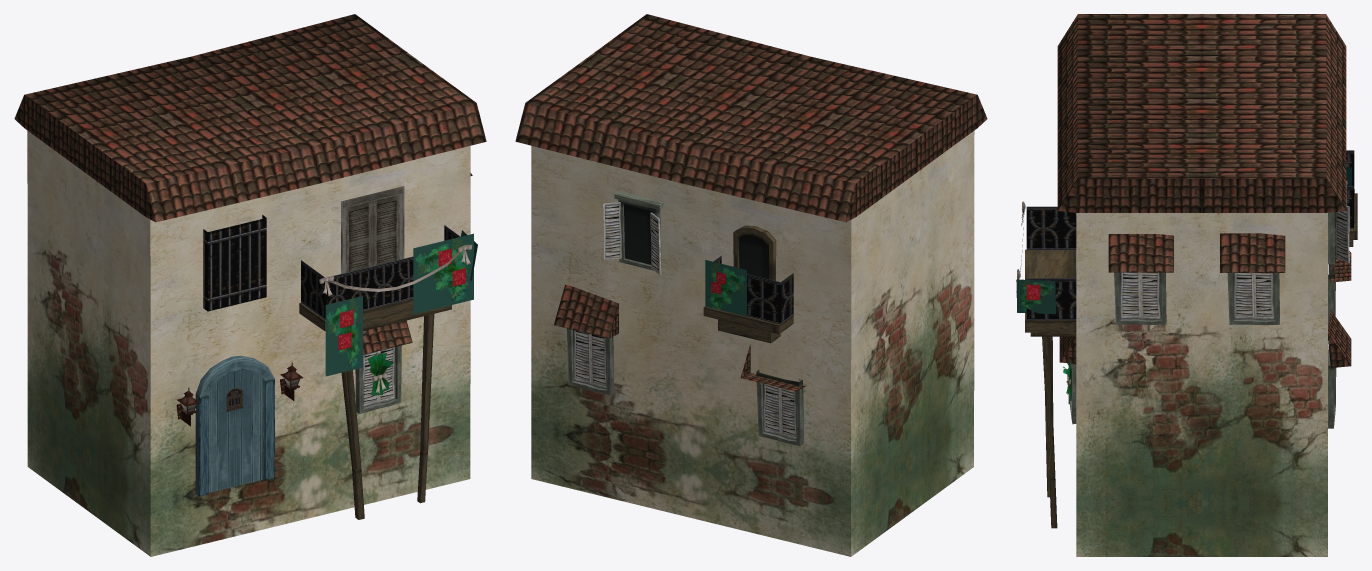
Rendered from spanish_npc_house_o_exterior.fbx.
3 views of the same model, side by side, from view 1: azimuth 30°, elevation 25°; view 2: azimuth 150°, elevation 25°; view 3: azimuth 270°, elevation 25° (orthographic). The views are drawn at different scales.
Parts seen in each view (by area): view 1: polySurface334, roof, door_right, pPlane30, door2, balcony_railing1, door_frame, polySurface266, polySurface338, win_rect_closed_012, Column6, Column5 (+4 smaller); view 2: polySurface334, roof, win_rect_closed_022, win_rect_closed_021, windows_roof3, polySurface342, Window2, polySurface335, windowframe15, windowframe16, shutter_a6, balcony_upper1 (+3 smaller); view 3: polySurface334, roof, balcony_railing1, win_rect_closed_019, win_rect_closed_020, windows_roof1, windows_roof, balcony_upper2, Column6, polySurface267, windows_roof3, shutter_a6 (+4 smaller).
Part boxes in pixels (<box>): polySurface334: <box>27,130,470,556</box>; roof: <box>14,14,486,222</box>; door_right: <box>208,369,263,492</box>; pPlane30: <box>203,215,266,311</box>; door2: <box>341,186,404,273</box>; balcony_railing1: <box>301,225,460,319</box>; door_frame: <box>195,355,274,496</box>; polySurface266: <box>413,233,473,314</box>; polySurface338: <box>325,296,362,376</box>; win_rect_closed_012: <box>355,345,401,413</box>; Column6: <box>417,314,434,503</box>; Column5: <box>341,370,364,519</box>; polySurface334: <box>531,130,974,556</box>; roof: <box>515,14,987,222</box>; win_rect_closed_022: <box>756,369,803,446</box>; win_rect_closed_021: <box>566,328,614,394</box>; windows_roof3: <box>554,284,618,338</box>; polySurface342: <box>714,256,793,324</box>; Window2: <box>733,225,776,280</box>; polySurface335: <box>705,260,746,316</box>; windowframe15: <box>624,204,653,264</box>; windowframe16: <box>614,191,663,270</box>; shutter_a6: <box>602,202,621,259</box>; balcony_upper1: <box>703,306,793,334</box>; polySurface334: <box>1076,212,1327,556</box>; roof: <box>1057,14,1346,212</box>; balcony_railing1: <box>1026,206,1076,320</box>; win_rect_closed_019: <box>1114,272,1166,324</box>; win_rect_closed_020: <box>1227,273,1279,325</box>; windows_roof1: <box>1220,233,1285,272</box>; windows_roof: <box>1108,234,1173,272</box>; balcony_upper2: <box>1025,249,1075,332</box>; Column6: <box>1042,336,1057,528</box>; polySurface267: <box>1016,279,1055,314</box>; windows_roof3: <box>1328,310,1351,367</box>; shutter_a6: <box>1335,205,1349,263</box>.
Size of the model in its own units: 3439 by 3586 by 2908.
3 materials, 3 textured.
